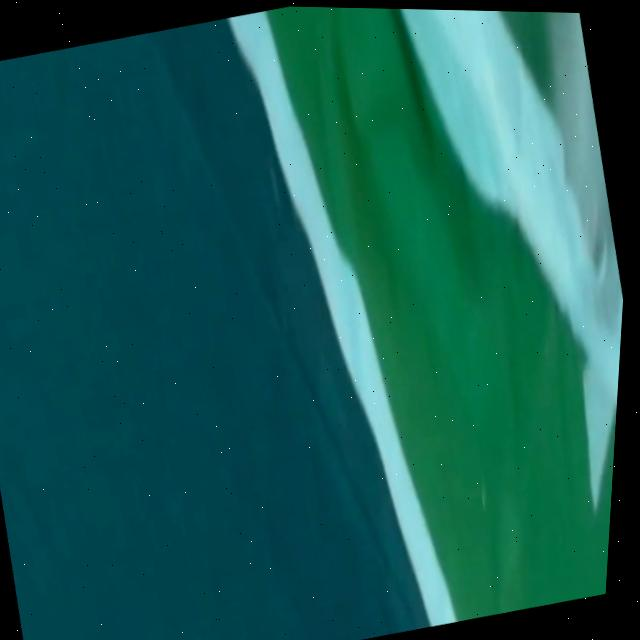right: (229, 10, 455, 626)
